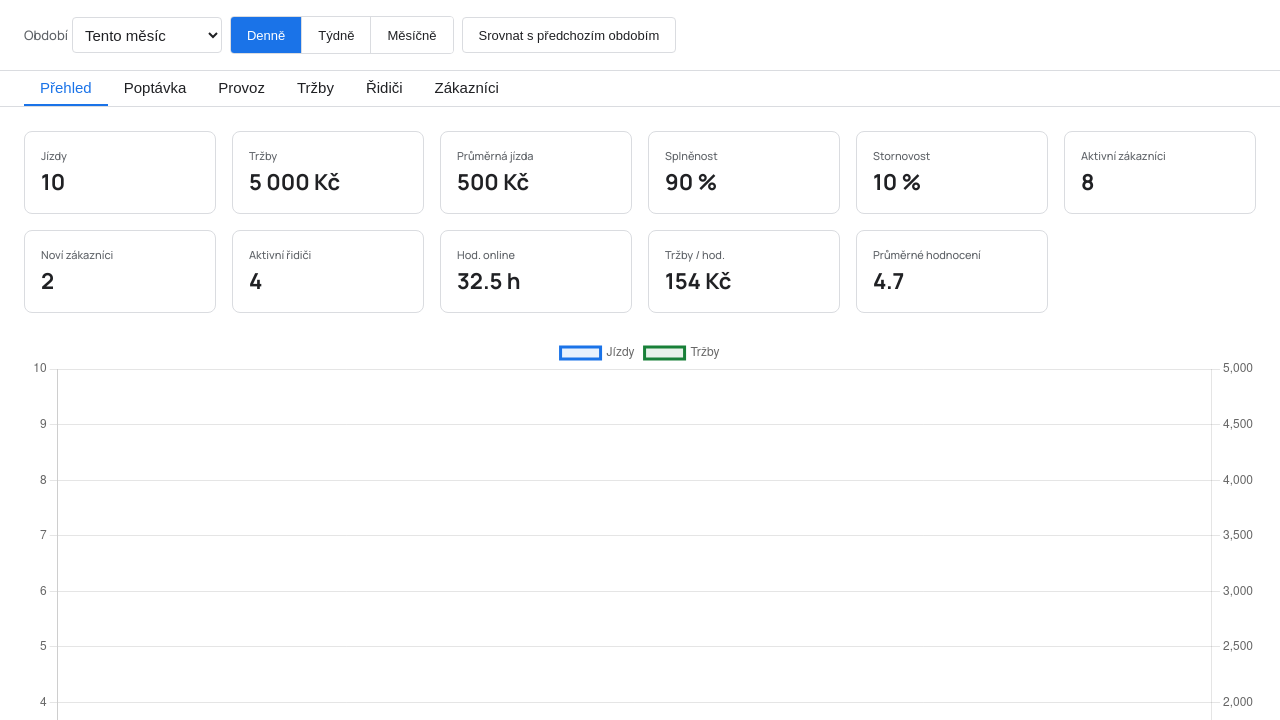
Test: AnalyticsPage › shows the Operations tab when clicking Provoz
Step 1. Click the tab "Provoz" → (242, 88), box [202,71,281,106]
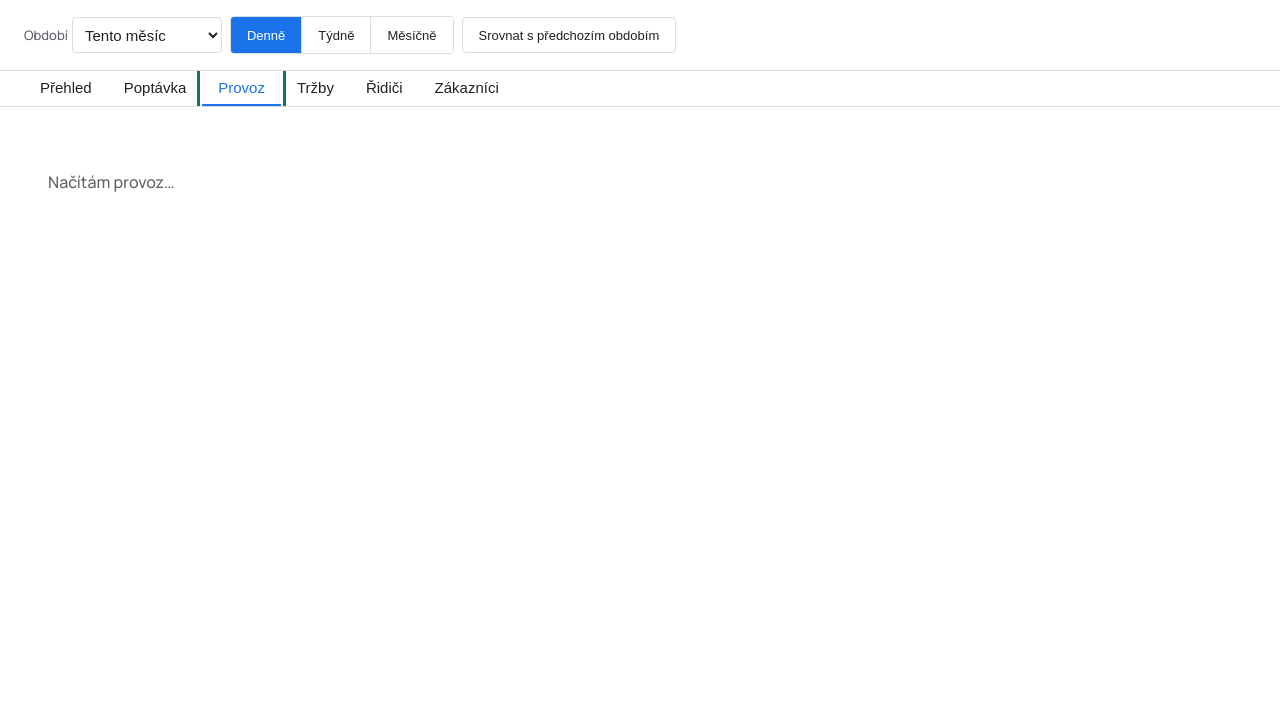
Expected: the text "Načítám provoz…" is shown, [48,171,174,193]
